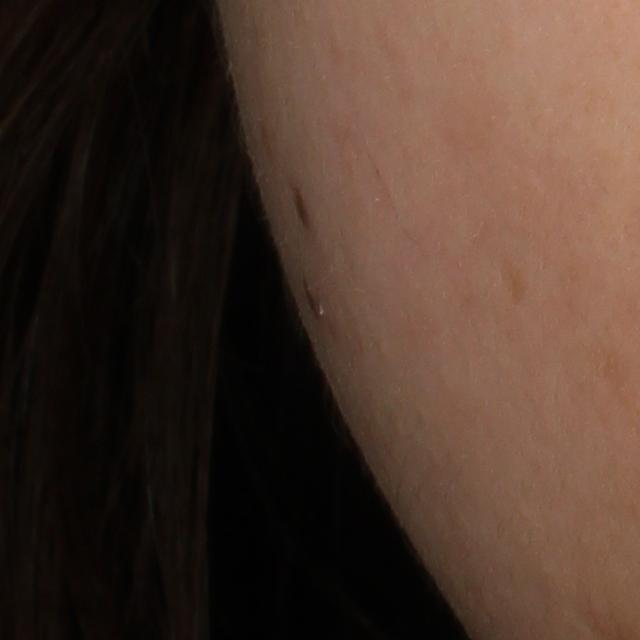nevus: (293, 183, 306, 223)
